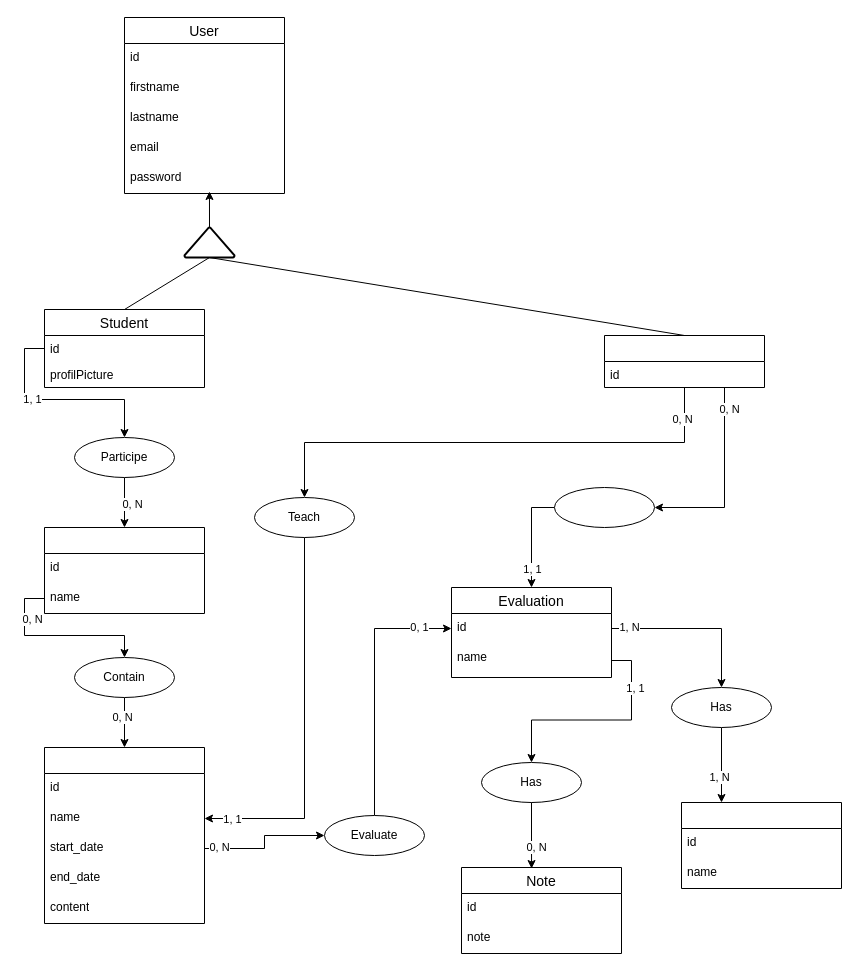
Some shapes in this 859 by 974 pixel diagram are drawn without their labels. Each missing label, with the box of its shape:
Category: (680, 802, 842, 888)
Course: (44, 746, 204, 924)
Create: (554, 486, 654, 528)
Session: (44, 526, 204, 614)
Teacher: (604, 334, 764, 388)
